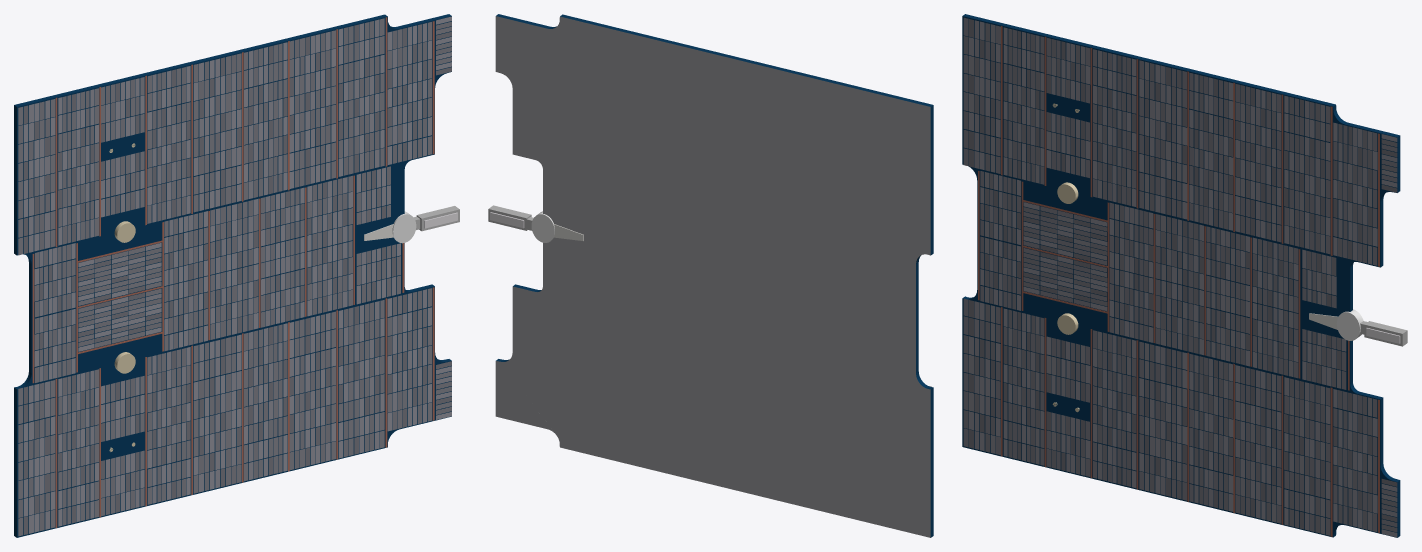
3 renders of one model, left to right at view 1: azimuth 30°, elevation 25°; view 2: azimuth 150°, elevation 25°; view 3: azimuth 330°, elevation 25°, orthographic.
Parts seen in each view (by area): view 1: Layer_0.003; view 2: Layer_0.003; view 3: Layer_0.003.
Part boxes in pixels (x1=…): Layer_0.003: x1=14, y1=14, x2=459, y2=537; Layer_0.003: x1=488, y1=14, x2=933, y2=537; Layer_0.003: x1=962, y1=14, x2=1407, y2=537.
Size of the model in its own units: 293 by 274 by 8.04.
